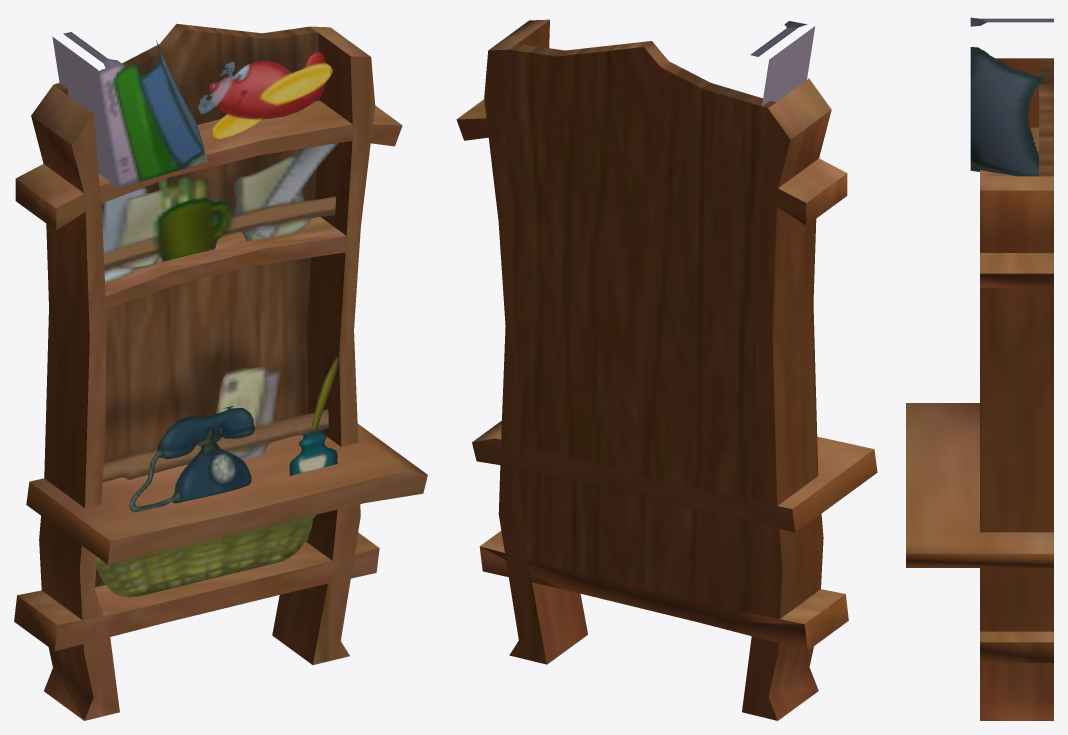
The model's file is bookcase.glb.
3 renders of one model, left to right at view 1: azimuth 30°, elevation 25°; view 2: azimuth 150°, elevation 25°; view 3: azimuth 270°, elevation 25°, orthographic. The views are drawn at different scales.
Parts seen in each view (by area): view 1: o5, o4, o3, o9, shelf1, books, o10, o7, willow, o8, airplane, shelf2 (+2 smaller); view 2: o5, o4, o9, o10, o7, o3, books; view 3: o3, o9, books, o7, o10, o5, o4.
Boxes of the visible parts, left/top/right/bottom form: o5: left=54, top=23, right=319, bottom=587; o4: left=31, top=85, right=119, bottom=720; o3: left=272, top=26, right=375, bottom=664; o9: left=26, top=424, right=427, bottom=564; shelf1: left=101, top=143, right=337, bottom=283; books: left=52, top=32, right=208, bottom=188; o10: left=14, top=532, right=379, bottom=651; o7: left=15, top=100, right=402, bottom=230; willow: left=96, top=515, right=315, bottom=597; o8: left=105, top=216, right=346, bottom=308; airplane: left=196, top=51, right=332, bottom=139; shelf2: left=102, top=366, right=328, bottom=482; o5: left=484, top=41, right=790, bottom=720; o4: left=768, top=78, right=831, bottom=720; o9: left=472, top=420, right=877, bottom=532; o10: left=479, top=531, right=848, bottom=650; o7: left=456, top=99, right=847, bottom=225; o3: left=489, top=19, right=587, bottom=664; books: left=750, top=21, right=815, bottom=105; o3: left=980, top=176, right=1053, bottom=720; o9: left=906, top=403, right=1053, bottom=567; books: left=970, top=17, right=1053, bottom=176; o7: left=980, top=127, right=1053, bottom=287; o10: left=980, top=631, right=1053, bottom=662; o5: left=1039, top=58, right=1053, bottom=176; o4: left=995, top=58, right=1038, bottom=127.
Size of the model in its own units: 4.12 by 7.39 by 1.67.
5 materials, 4 textured.
